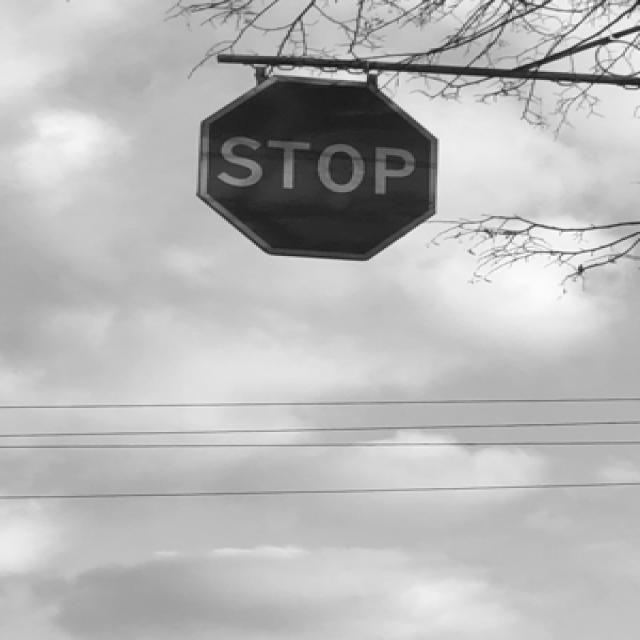Stop-signs: (197, 77, 439, 260)
